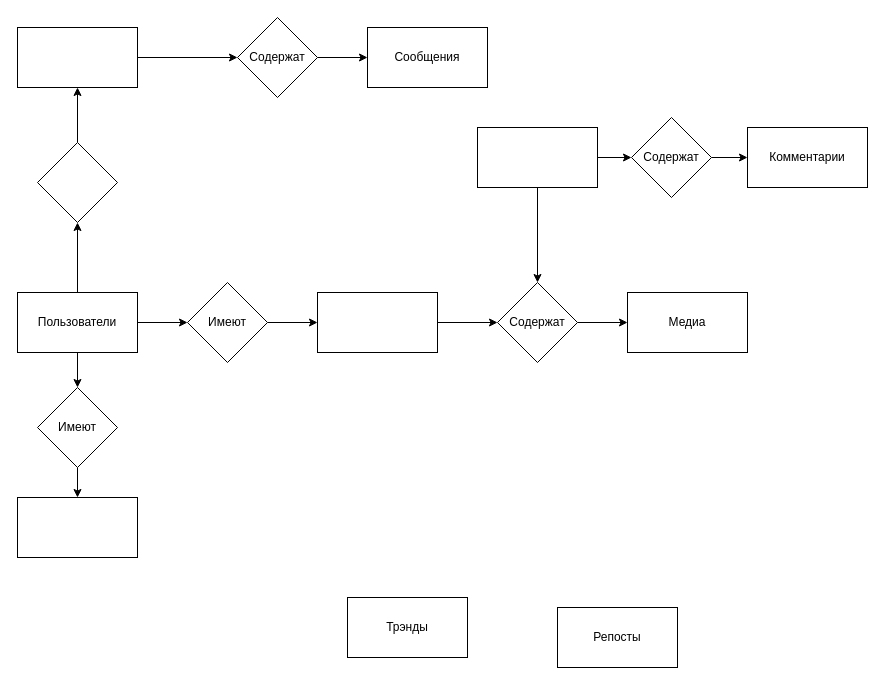
Image size: 885x685. Some labels were removed from this diagram. Here are the shapes that lost their labels. From the top down, the centre of each, then its label:
the point at 77,57: Чаты
the point at 537,157: Посты
the point at 77,182: Состоят
the point at 377,322: Альбомы
the point at 77,527: Друзья
